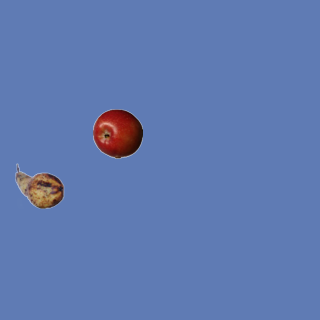Apple Braeburn: (92, 108, 142, 158)
Pear Abate: (14, 161, 64, 211)
